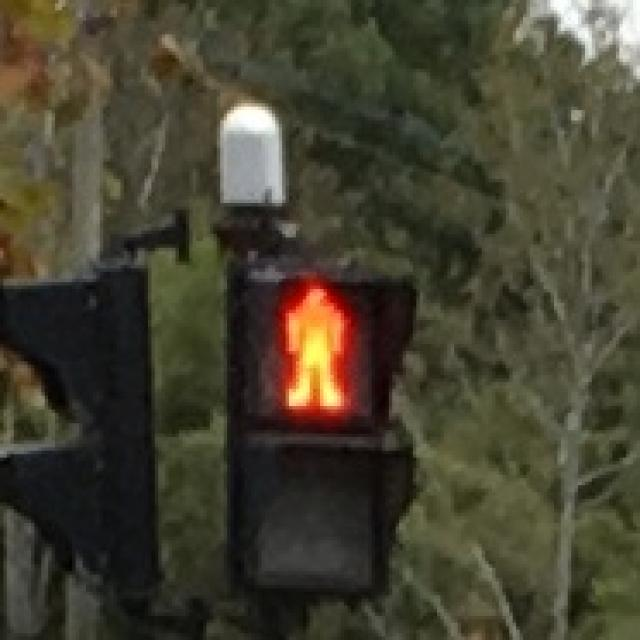red_light: (262, 275, 364, 420)
